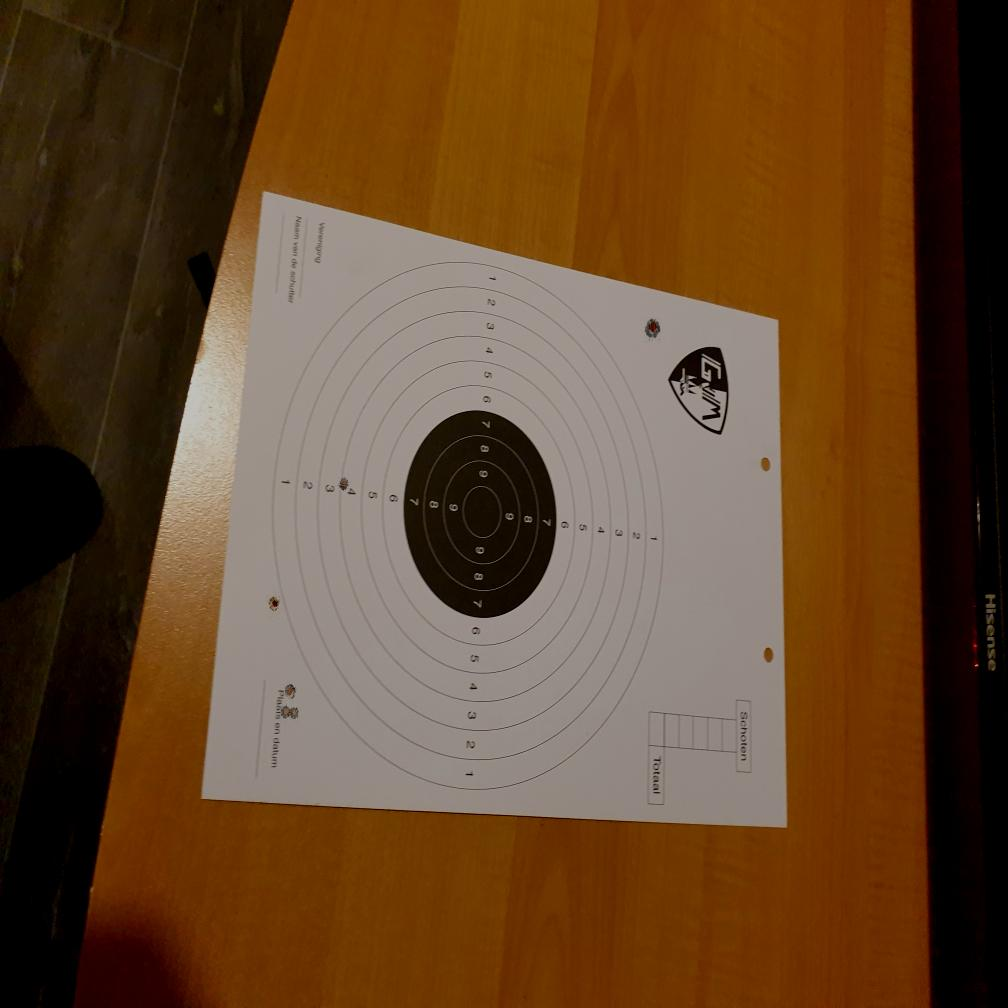0: (645, 318, 660, 343), (268, 594, 281, 614), (284, 683, 296, 699), (280, 705, 290, 722), (290, 706, 299, 720)
4: (337, 477, 351, 491)
Target: (272, 261, 664, 791)
black_contour: (404, 410, 557, 618)
